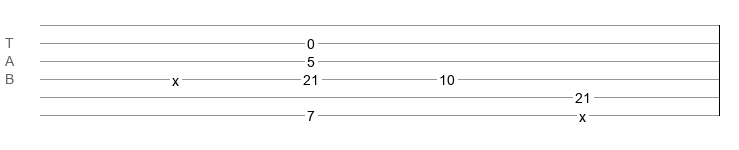0: (307, 36, 315, 46)
10: (439, 72, 455, 82)
21: (303, 72, 319, 82), (575, 90, 591, 100)
5: (307, 54, 315, 64)
7: (307, 108, 315, 118)
x: (172, 73, 179, 81), (579, 109, 586, 117)
